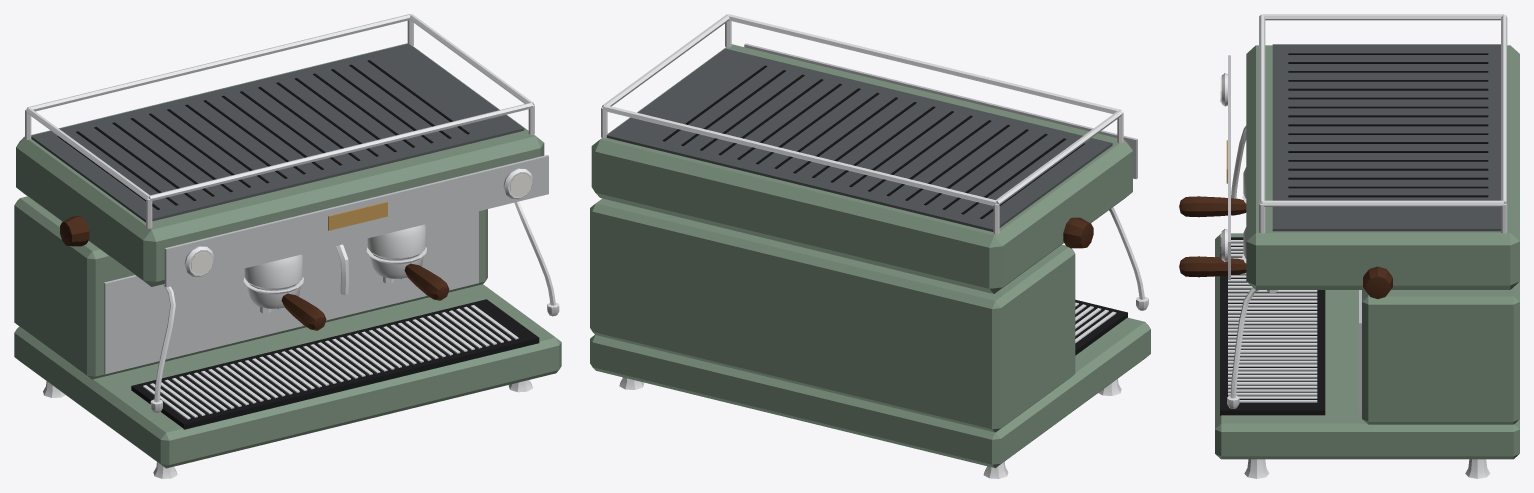
Rendered from espresso_sage.glb.
3 views of the same model, side by side, from view 1: azimuth 30°, elevation 25°; view 2: azimuth 150°, elevation 25°; view 3: azimuth 270°, elevation 25° (orthographic). The views are drawn at different scales.
Parts seen in each view (by area): view 1: sage_2g; view 2: sage_2g; view 3: sage_2g.
Part boxes in pixels (x1,y1,x2,y2): sage_2g: (14,14,561,478); sage_2g: (590,14,1150,478); sage_2g: (1179,14,1519,478).
Size of the model in its own units: 0.96 by 0.5858 by 0.648.
